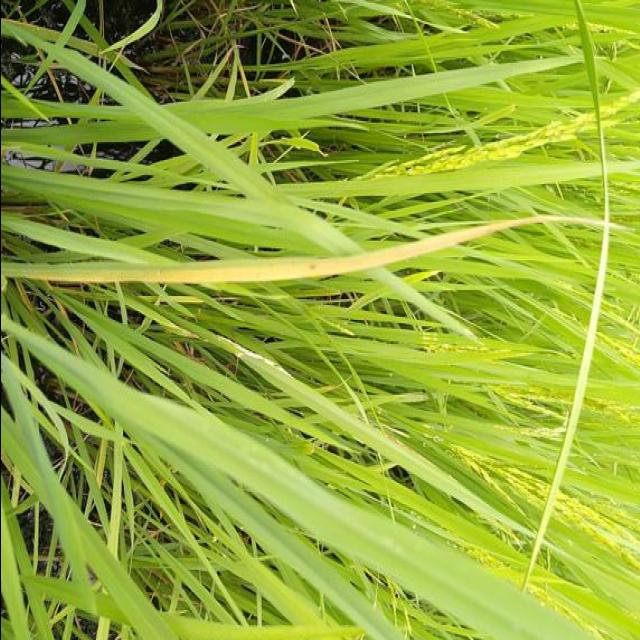Leaf Blight: (53, 220, 549, 289)
